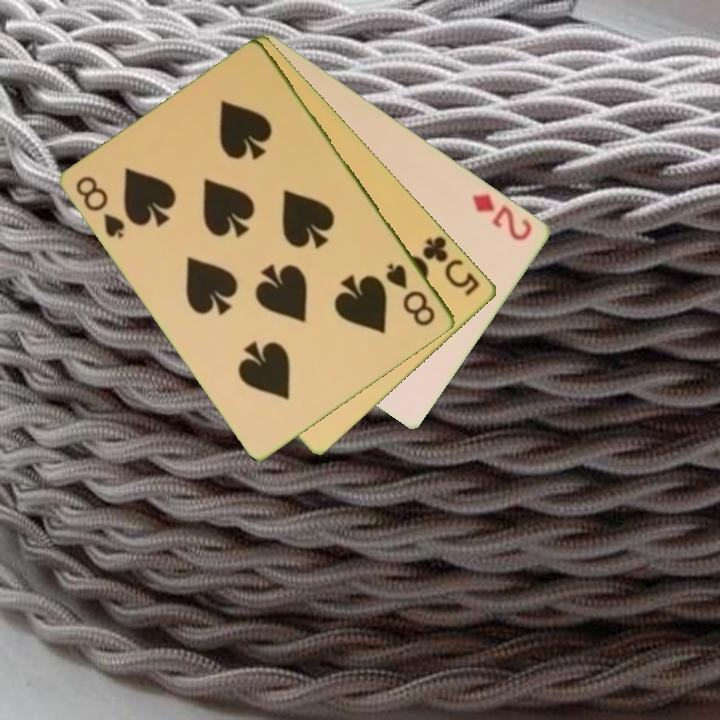2d: (469, 190, 536, 244)
5c: (419, 232, 484, 300)
8s: (382, 259, 439, 330), (72, 172, 129, 241)
